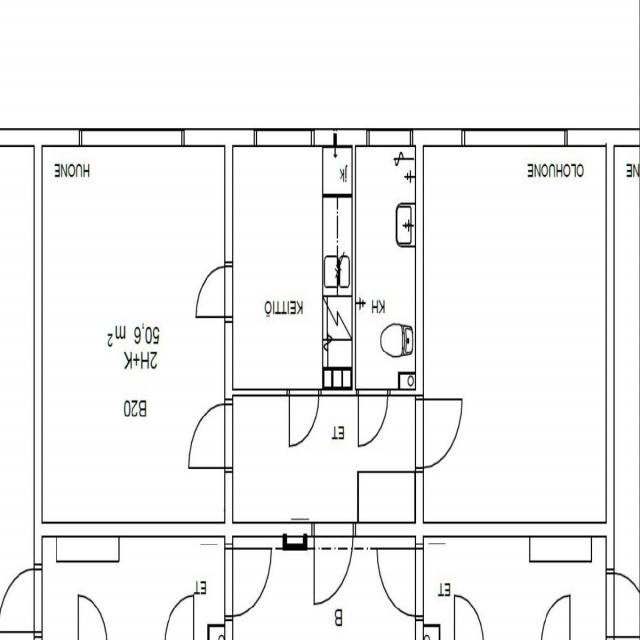door: (314, 522, 352, 604), (415, 399, 461, 466), (188, 404, 232, 468), (195, 267, 232, 317), (358, 389, 387, 447), (289, 389, 318, 447)
